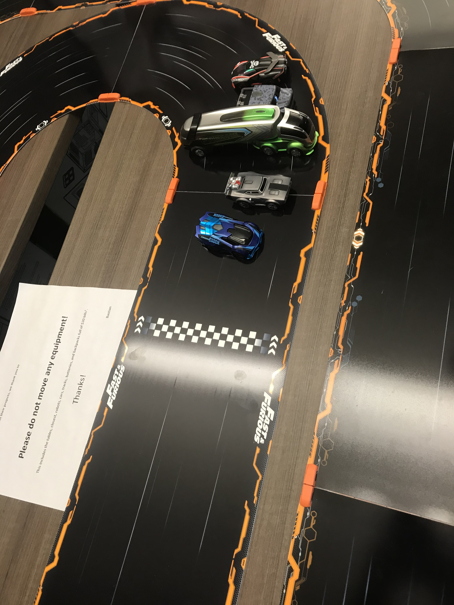Charger: (224, 170, 292, 206)
Finish Line: (129, 311, 281, 359)
Freewheel: (183, 104, 325, 158)
MXT: (232, 80, 300, 110)
Shock: (192, 213, 265, 260)
Skull: (228, 52, 296, 84)
